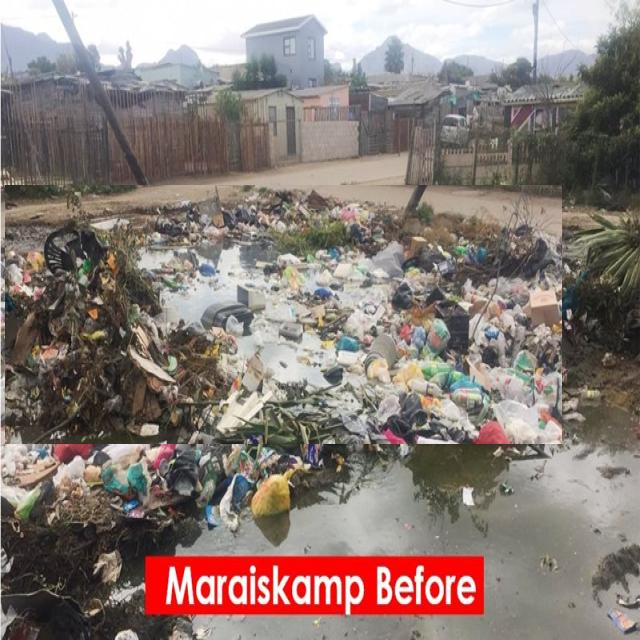dumping: (5, 186, 562, 446)
